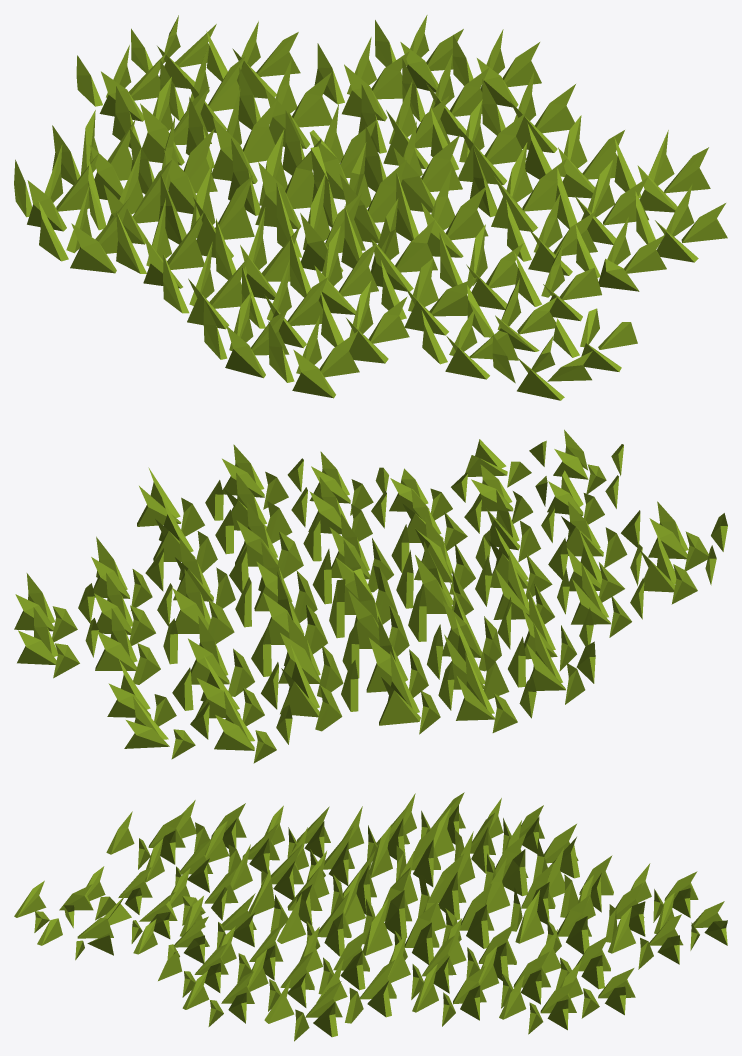
File: grass.fbx
3 views of the same model, one above another, from view 1: azimuth 30°, elevation 25°; view 2: azimuth 150°, elevation 25°; view 3: azimuth 270°, elevation 25° (orthographic). The views are drawn at different scales.
Visible parts, largest first — view 1: grass; view 2: grass; view 3: grass.
Part boxes in pixels (<box>): grass: <box>14,15,727,400</box>; grass: <box>14,429,727,763</box>; grass: <box>14,792,727,1041</box>.
Bounding box in the file's own units: 667 × 74.16 × 933.
